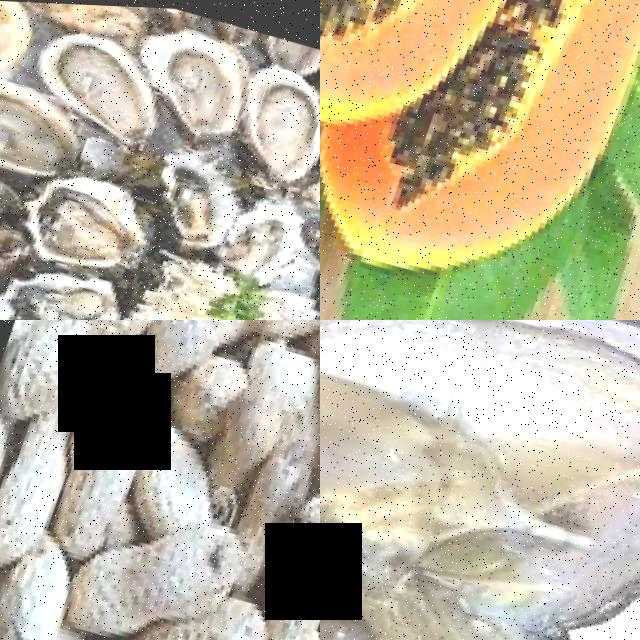lemon: (0, 0, 40, 64)
oysters: (320, 320, 640, 638), (9, 24, 188, 140), (120, 24, 270, 141), (18, 165, 167, 280), (217, 56, 320, 179), (150, 145, 257, 253), (210, 182, 320, 287), (0, 69, 94, 185), (0, 248, 142, 320), (240, 274, 320, 320)
pawpaw: (421, 0, 640, 300), (320, 0, 588, 153)
peanuts: (48, 340, 179, 544), (93, 497, 260, 640), (0, 421, 83, 574), (235, 498, 320, 640), (0, 320, 113, 421), (0, 543, 93, 640), (144, 320, 251, 383), (0, 413, 26, 584), (228, 320, 320, 348)
